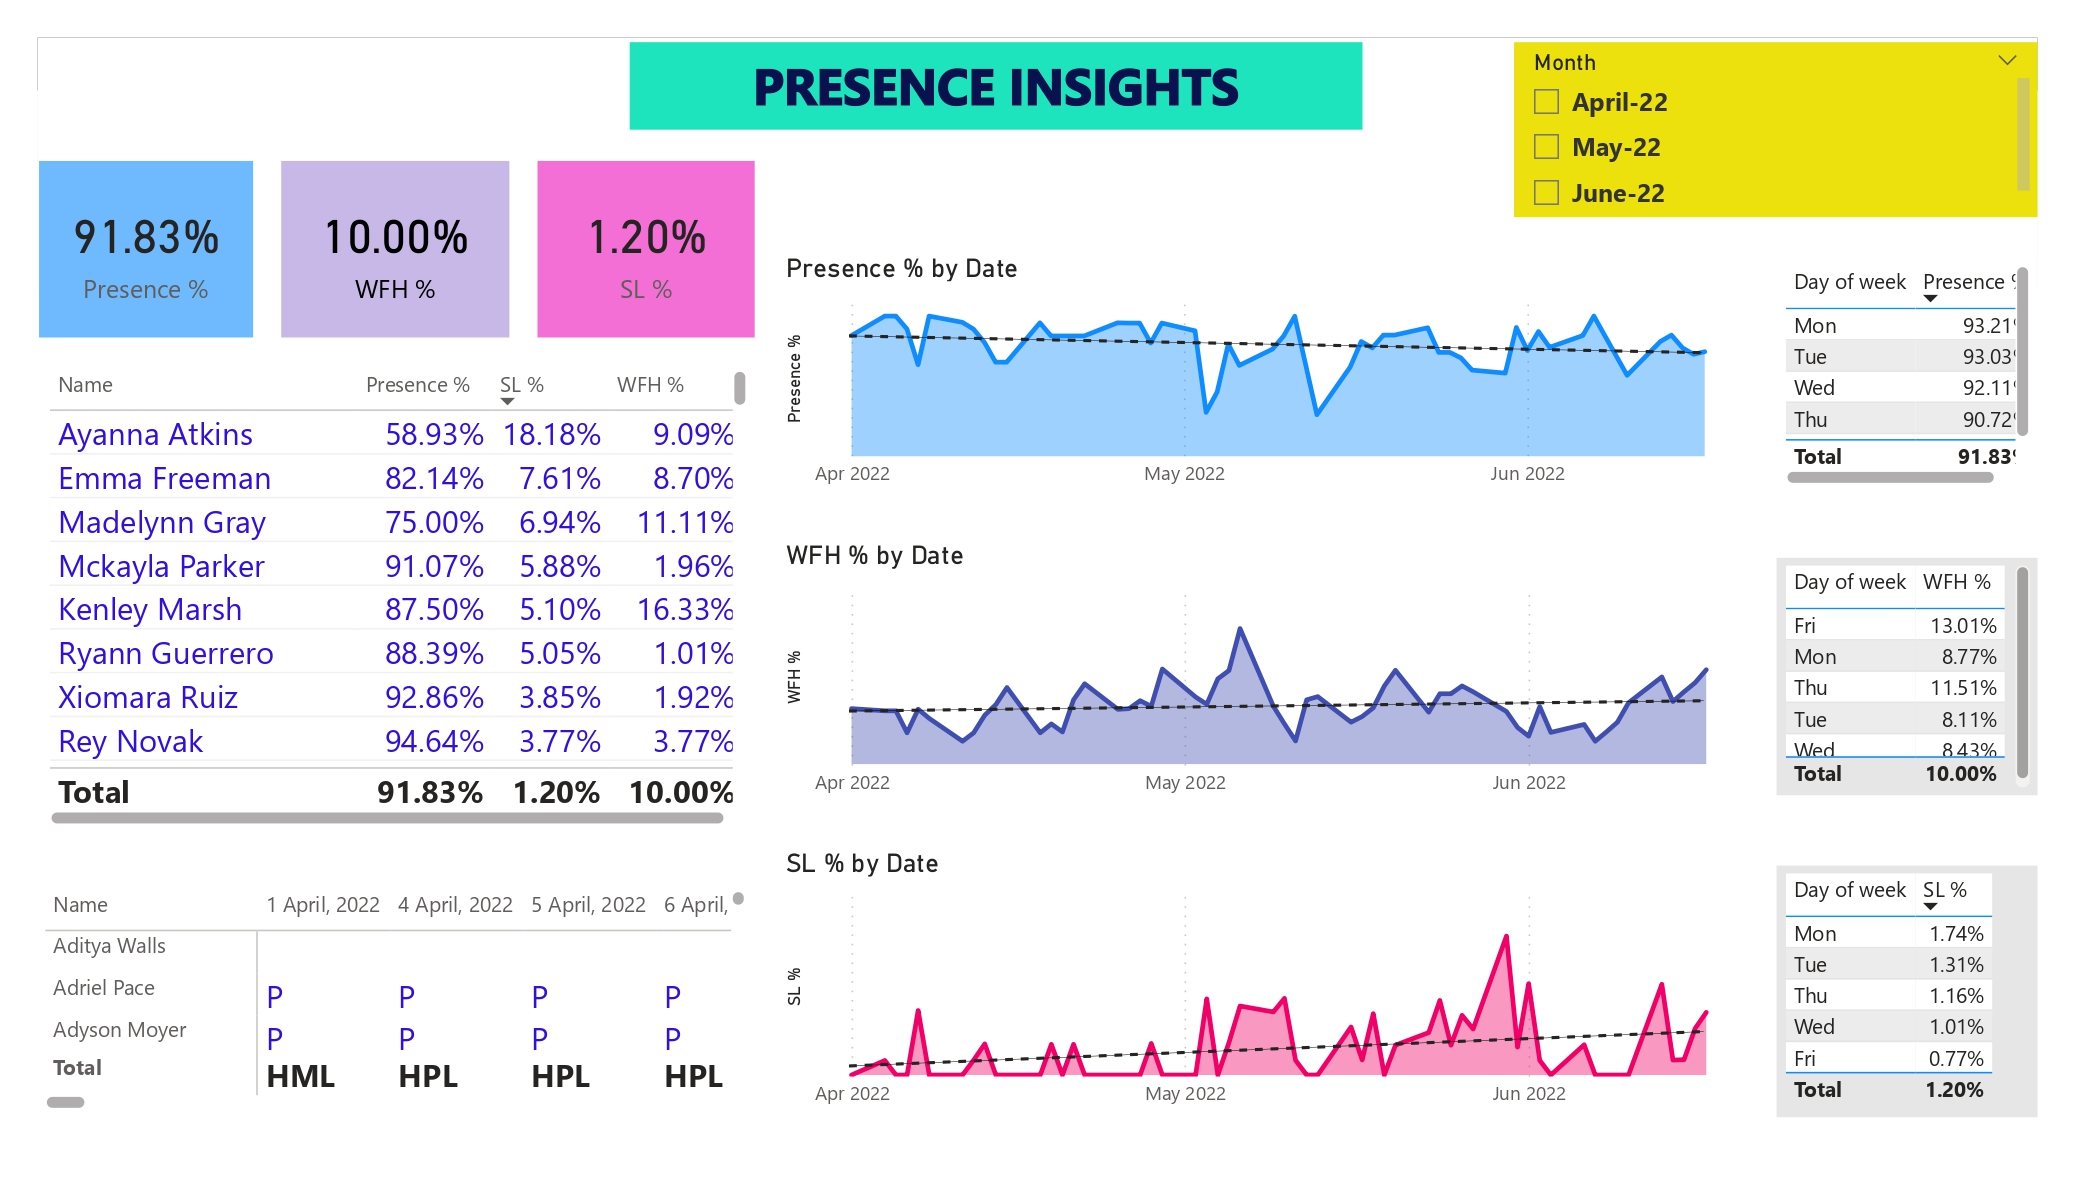

Layout of this report page (visuals, bound fields, positions):
{"tool":"powerbi","page":{"name":"Presence Overview","canvas":[1280,720],"ordinal":0},"visuals":[{"type":"card","fields":{"Values":["Measure Table.Presence %"]},"box":[1.4,79.2,136.8,112.3],"z":0},{"type":"slicer","fields":{"Values":["Final Data.Month"]},"box":[944.6,2.9,335.5,112.3],"z":1000},{"type":"card","fields":{"Values":["Measure Table.WFH %"]},"box":[155.9,78.8,146.1,113.2],"z":2000},{"type":"card","fields":{"Values":["Measure Table.SL %"]},"box":[320,78.8,139.5,113.2],"z":3000},{"type":"tableEx","fields":{"Values":["Final Data.Name","Measure Table.Presence %","Measure Table.SL %","Measure Table.WFH %"]},"box":[1.6,208.4,457.8,300.3],"z":4000},{"type":"textbox","box":[378.7,2.9,469.4,56.2],"z":5000},{"type":"pivotTable","fields":{"Rows":["Final Data.Name"],"Values":["Min(Final Data.Value)"],"Columns":["Final Data.Date"]},"box":[0,541.4,457.9,149.8],"z":6000},{"type":"areaChart","fields":{"Category":["Final Data.Date"],"Y":["Measure Table.Presence %"]},"box":[473.8,136.8,622.1,159.8],"z":7000},{"type":"areaChart","fields":{"Category":["Final Data.Date"],"Y":["Measure Table.WFH %"]},"box":[473.8,321.1,623.5,174.2],"z":8000},{"type":"areaChart","fields":{"Category":["Final Data.Date"],"Y":["Measure Table.SL %"]},"box":[473.8,518.4,623.5,175.7],"z":9000},{"type":"tableEx","fields":{"Values":["Final Data.Day of week","Measure Table.Presence %"]},"box":[1113.1,141.1,167,149.8],"z":10000},{"type":"tableEx","fields":{"Values":["Final Data.Day of week","Measure Table.WFH %"]},"box":[1113.1,332.6,167,152.6],"z":11000},{"type":"tableEx","fields":{"Values":["Final Data.Day of week","Measure Table.SL %"]},"box":[1113.1,529.9,167,161.3],"z":12000}]}

Visuals, with their boxes on the page's 1280x720 design canvas (x1, y1, x2, y2). These are canvas units, not pixel positions in the 2075x1200 screenshot, which may show the page scaled, cropped or inside an application window:
card - Measure Table.Presence %: crop(1, 79, 138, 192)
slicer - Final Data.Month: crop(945, 3, 1280, 115)
card - Measure Table.WFH %: crop(156, 79, 302, 192)
card - Measure Table.SL %: crop(320, 79, 460, 192)
tableEx - Final Data.Name x Measure Table.Presence %: crop(2, 208, 459, 509)
textbox: crop(379, 3, 848, 59)
pivotTable - Final Data.Name x Min(Final Data.Value): crop(0, 541, 458, 691)
areaChart - Final Data.Date x Measure Table.Presence %: crop(474, 137, 1096, 297)
areaChart - Final Data.Date x Measure Table.WFH %: crop(474, 321, 1097, 495)
areaChart - Final Data.Date x Measure Table.SL %: crop(474, 518, 1097, 694)
tableEx - Final Data.Day of week x Measure Table.Presence %: crop(1113, 141, 1280, 291)
tableEx - Final Data.Day of week x Measure Table.WFH %: crop(1113, 333, 1280, 485)
tableEx - Final Data.Day of week x Measure Table.SL %: crop(1113, 530, 1280, 691)
